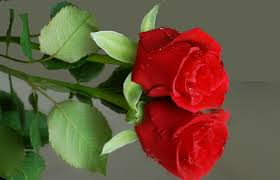lale: (104, 17, 234, 111), (116, 98, 239, 180)
